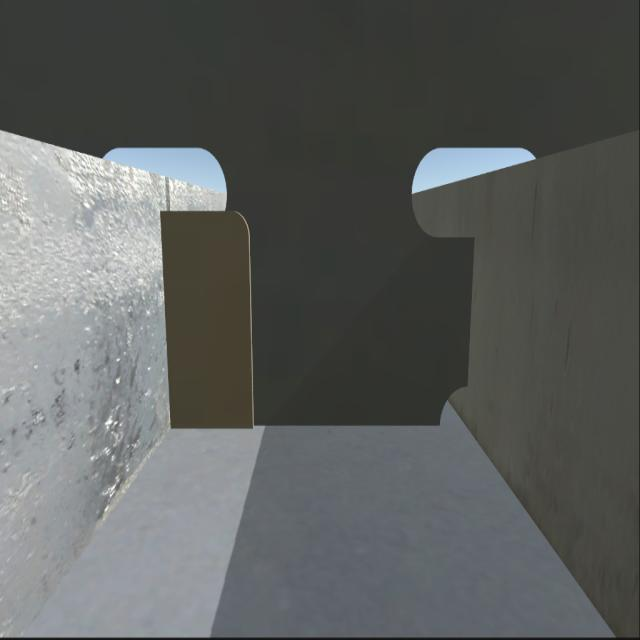fillet_hole: (435, 388, 467, 430)
fillet_yong_jeop_jang: (170, 418, 431, 432)
longi_yong_jeop_jang: (156, 217, 170, 423), (461, 246, 472, 376)
plate_CP05: (161, 202, 251, 421)
